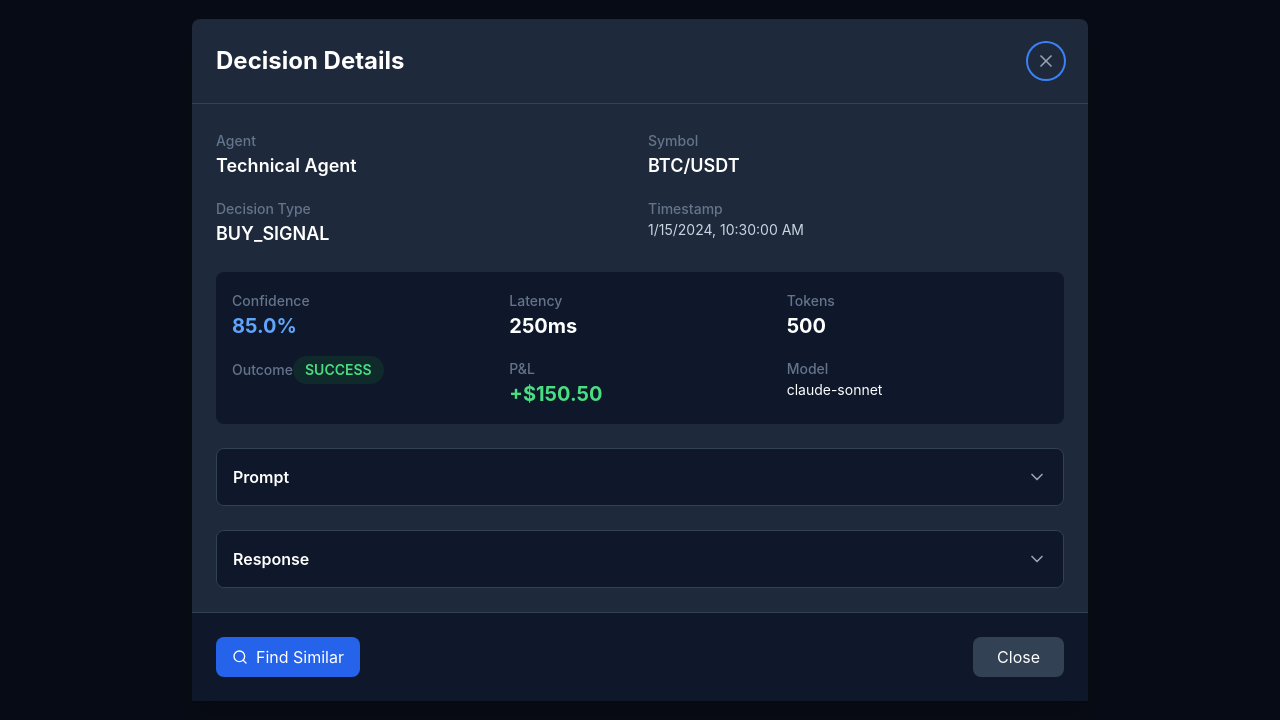
it: DecisionDetail › Expand/Collapse Sections › response section expands when clicked
Click the button with aria-label "expand response" at (271, 559), box [217,531,1063,587]
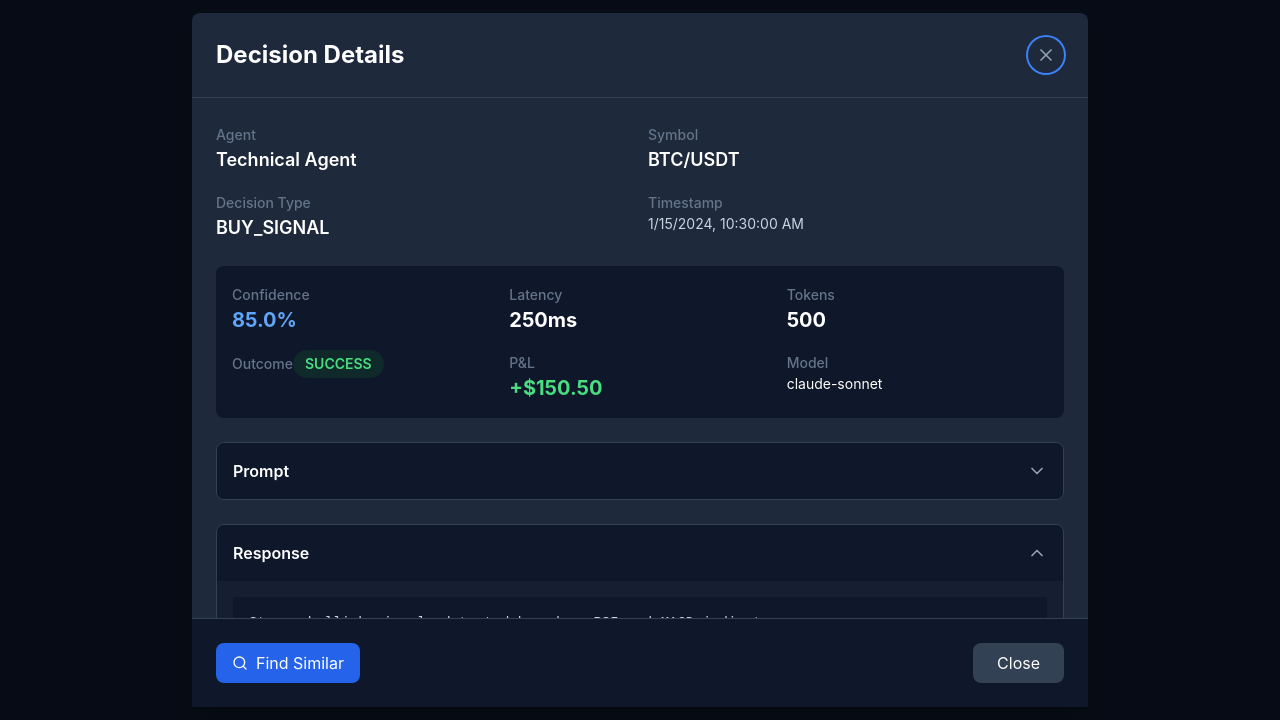
Expected: the button named "expand response" is expanded, [217,525,1063,581]
